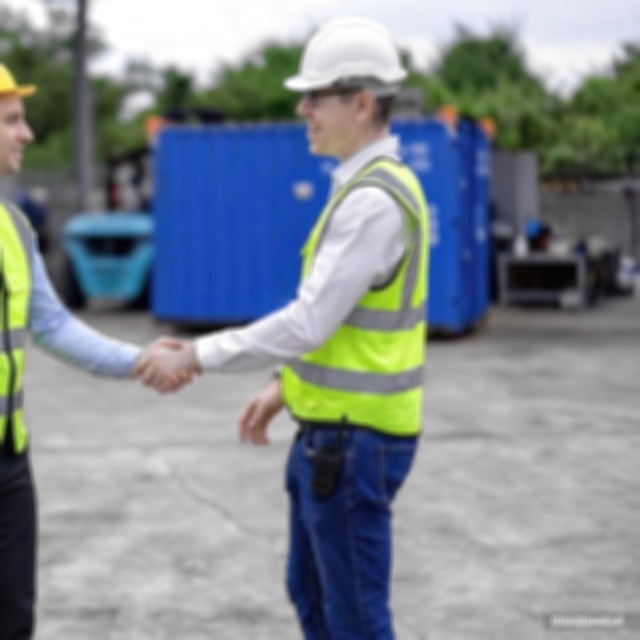Con_Casco: (284, 17, 408, 158)
Con_Chaleco: (277, 160, 435, 421)
